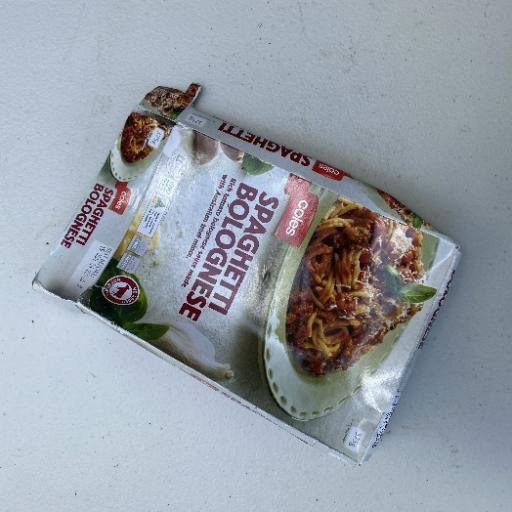Cardboard: (31, 81, 462, 465)
